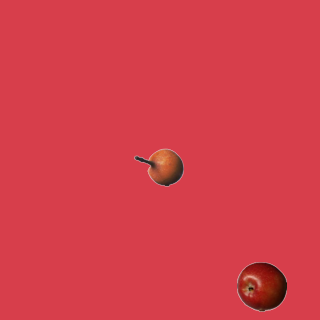Apple Braeburn: (236, 261, 286, 311)
Granadilla: (133, 142, 183, 192)
